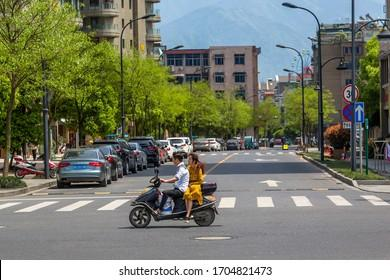nohelmet: (168, 150, 183, 168), (187, 151, 201, 170)
